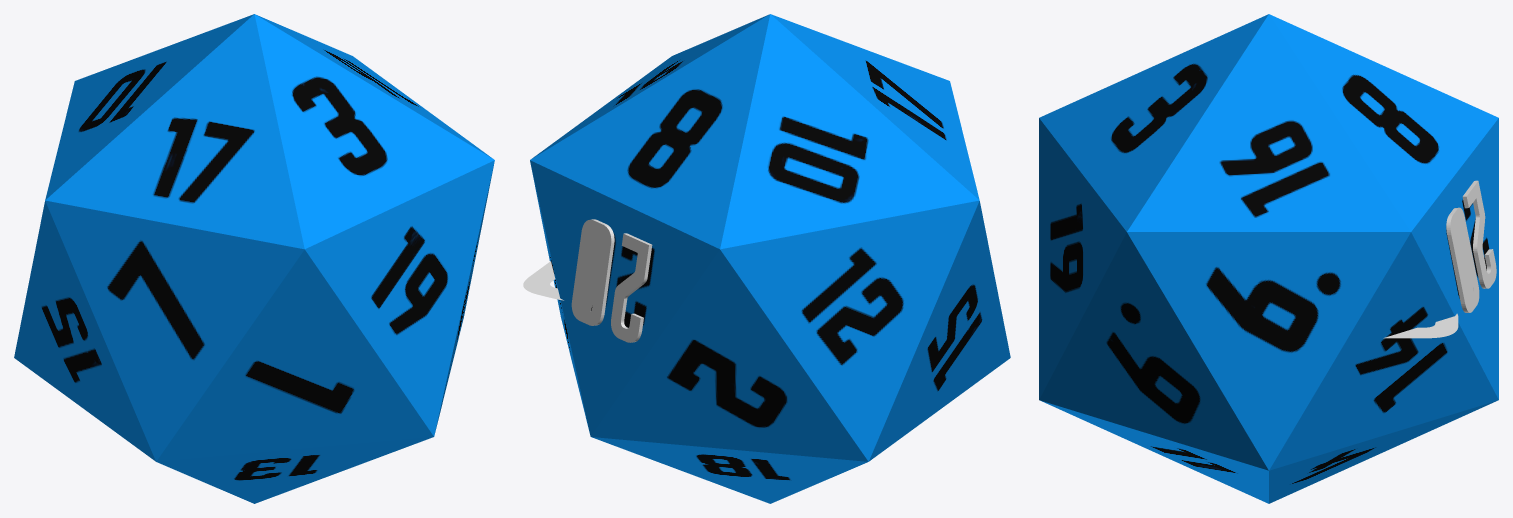
The picture shows the model from 3 angles, left to right: view 1: azimuth 30°, elevation 25°; view 2: azimuth 150°, elevation 25°; view 3: azimuth 270°, elevation 25°; orthographic projection.
Parts seen in each view (by area): view 1: Dice_d20; view 2: Dice_d20, Text.001, Text; view 3: Dice_d20, Text.001, Text.
Part boxes in pixels (x1,y1,x2,y2): Dice_d20: (14, 14, 494, 503); Dice_d20: (530, 14, 1010, 503); Text.001: (571, 219, 652, 342); Text: (523, 261, 563, 300); Dice_d20: (1039, 14, 1498, 503); Text.001: (1446, 180, 1496, 312); Text: (1383, 313, 1458, 338).
Bounding box in the file's own units: 170 × 190 × 162.
